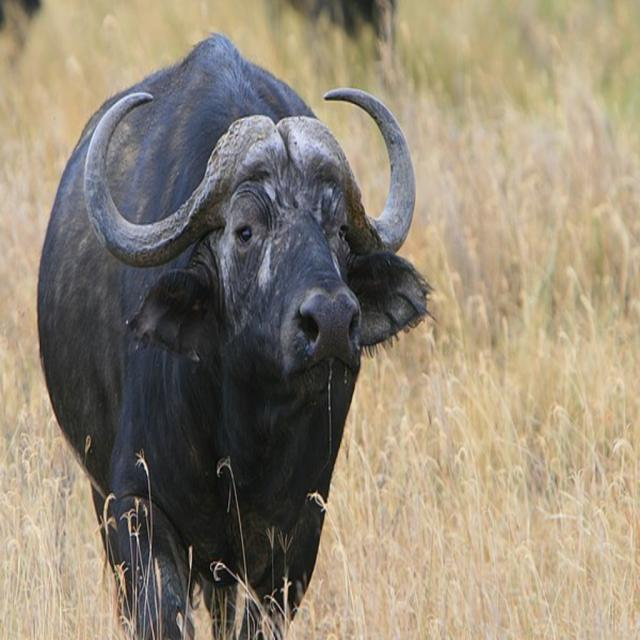Cattle: (36, 33, 438, 640)
